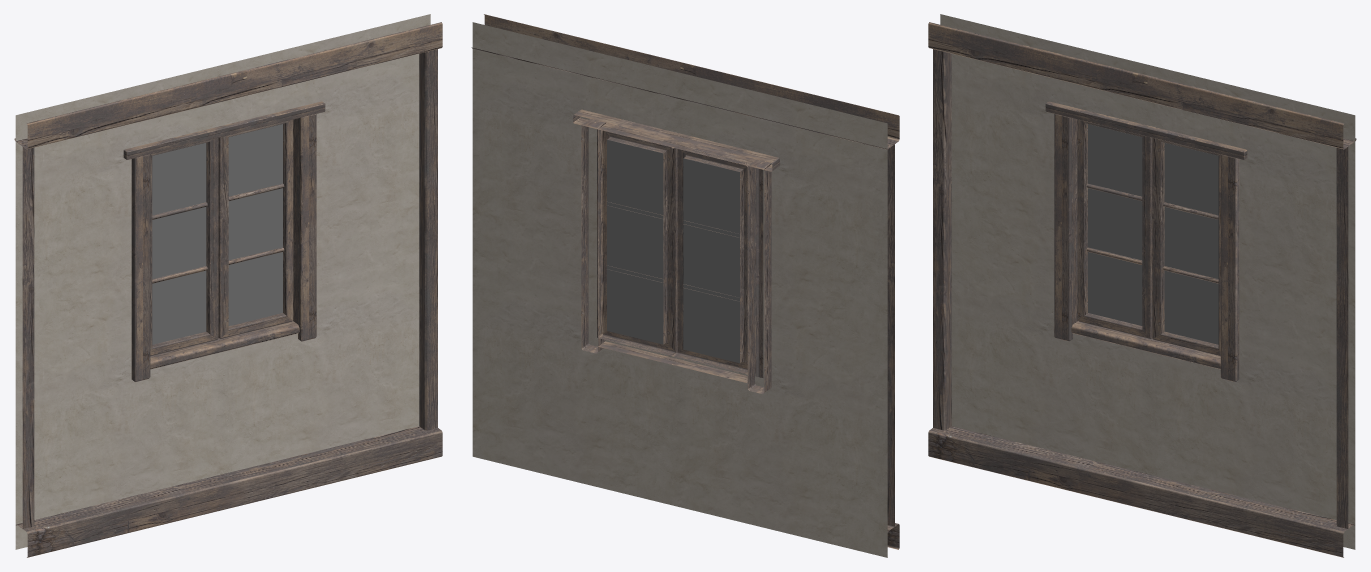
File: IntWall02window01.FBX
The picture shows the model from 3 angles, left to right: view 1: azimuth 30°, elevation 25°; view 2: azimuth 150°, elevation 25°; view 3: azimuth 330°, elevation 25°; orthographic projection.
Visible parts, largest first — view 1: IntWall02Window01; view 2: IntWall02Window01; view 3: IntWall02Window01.
Part boxes in pixels (x1,y1,x2,y2): IntWall02Window01: [14, 14, 442, 557]; IntWall02Window01: [471, 14, 899, 557]; IntWall02Window01: [928, 14, 1356, 557].
Size of the model in its own units: 98.43 by 7.97 by 98.43.
